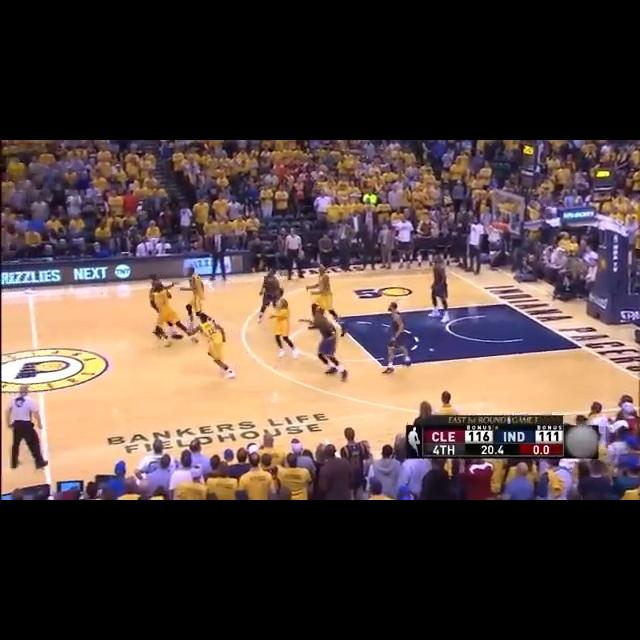hoop: (483, 221, 504, 246)
